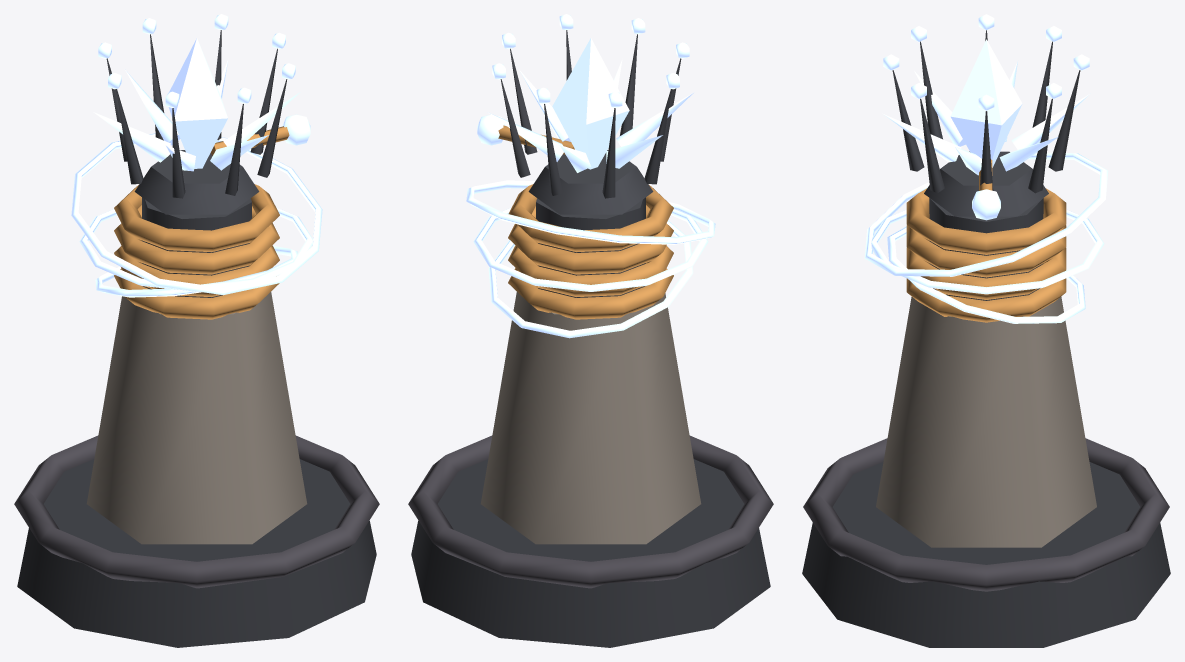
File: tower_chain_tempest.glb
The picture shows the model from 3 angles, left to right: view 1: azimuth 30°, elevation 25°; view 2: azimuth 150°, elevation 25°; view 3: azimuth 270°, elevation 25°; orthographic projection.
Visible parts, largest first — view 1: shaft, base, base_rim, cap, coil_3, crystal_core, antenna_ring_2, coil_2, coil_0, coil_core, antenna_ring_1, coil_1 (+11 smaller); view 2: shaft, base, base_rim, crystal_core, cap, coil_2, coil_0, coil_3, antenna_ring_2, coil_1, antenna_ring_1, antenna_ring_0 (+12 smaller); view 3: shaft, base, base_rim, crystal_core, coil_3, cap, antenna_ring_2, coil_2, coil_0, coil_1, antenna_ring_1, coil_core (+13 smaller).
Part boxes in pixels (left/top/right/bottom): shaft: left=86, top=286, right=307, bottom=544; base: left=17, top=459, right=376, bottom=647; base_rim: left=14, top=435, right=379, bottom=588; cap: left=134, top=150, right=259, bottom=214; coil_3: left=114, top=184, right=279, bottom=252; crystal_core: left=168, top=38, right=227, bottom=168; antenna_ring_2: left=71, top=133, right=322, bottom=295; coil_2: left=114, top=205, right=279, bottom=274; coil_0: left=114, top=268, right=279, bottom=319; coil_core: left=142, top=197, right=251, bottom=297; antenna_ring_1: left=79, top=207, right=312, bottom=291; coil_1: left=114, top=245, right=279, bottom=297; shaft: left=480, top=286, right=701, bottom=544; base: left=411, top=459, right=770, bottom=647; base_rim: left=408, top=435, right=773, bottom=588; crystal_core: left=552, top=38, right=629, bottom=169; cap: left=528, top=150, right=653, bottom=214; coil_2: left=508, top=205, right=673, bottom=274; coil_0: left=508, top=268, right=673, bottom=319; coil_3: left=508, top=184, right=673, bottom=252; antenna_ring_2: left=466, top=180, right=715, bottom=244; coil_1: left=508, top=245, right=673, bottom=297; antenna_ring_1: left=473, top=207, right=708, bottom=291; antenna_ring_0: left=488, top=220, right=693, bottom=338; shaft: left=876, top=297, right=1096, bottom=547; base: left=802, top=461, right=1170, bottom=647; base_rim: left=803, top=438, right=1169, bottom=591; crystal_core: left=950, top=39, right=1022, bottom=167; coil_3: left=906, top=188, right=1066, bottom=254; cap: left=924, top=151, right=1048, bottom=216; antenna_ring_2: left=864, top=152, right=1108, bottom=276; coil_2: left=906, top=225, right=1066, bottom=277; coil_0: left=906, top=270, right=1066, bottom=322; coil_1: left=906, top=248, right=1066, bottom=299; antenna_ring_1: left=871, top=209, right=1104, bottom=294; coil_core: left=929, top=198, right=1043, bottom=300.
Bounding box in the file's own units: 0.398 × 0.64 × 0.4.
